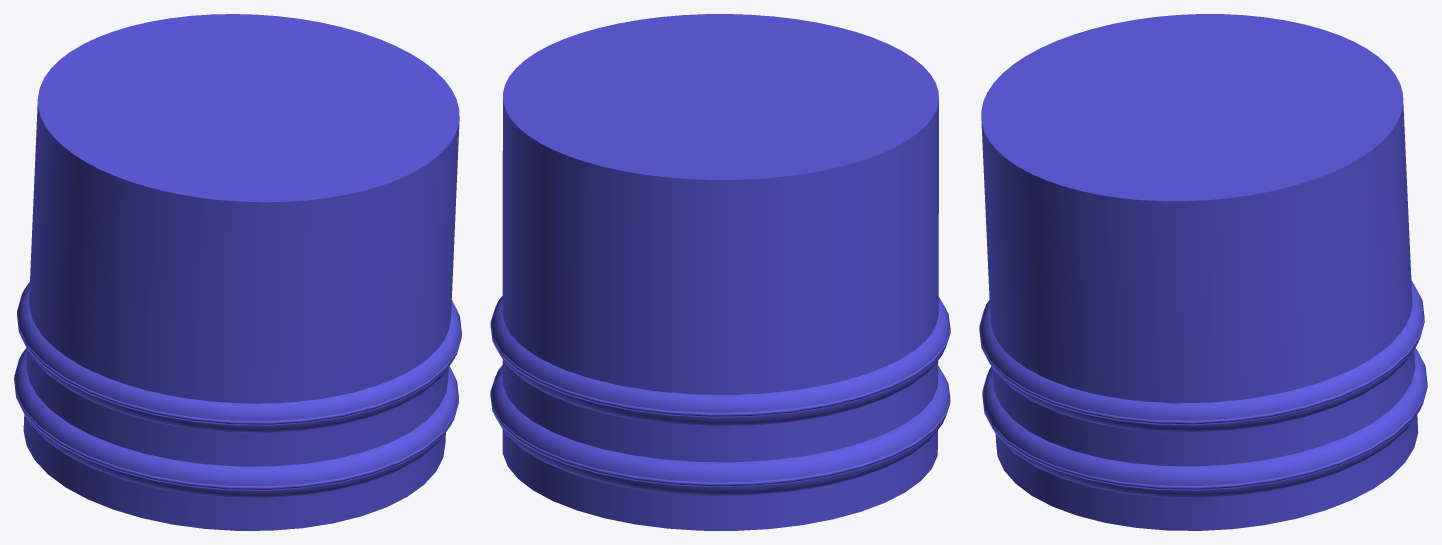
File: bombilla242.obj
3 views of the same model, side by side, from view 1: azimuth 30°, elevation 25°; view 2: azimuth 150°, elevation 25°; view 3: azimuth 270°, elevation 25° (orthographic). The views are drawn at different scales.
Visible parts, largest first — view 1: Cylinder001, Cylinder004, Cylinder003, Cylinder002, Cylinder006; view 2: Cylinder001, Cylinder004, Cylinder003, Cylinder006, Cylinder002; view 3: Cylinder001, Cylinder004, Cylinder003, Cylinder002, Cylinder006.
Boxes of the visible parts, x1=… form: Cylinder001: x1=29, y1=14, x2=459, y2=403; Cylinder004: x1=14, y1=348, x2=458, y2=498; Cylinder003: x1=26, y1=349, x2=448, y2=466; Cylinder002: x1=17, y1=282, x2=461, y2=432; Cylinder006: x1=23, y1=415, x2=445, y2=530; Cylinder001: x1=502, y1=14, x2=938, y2=394; Cylinder004: x1=490, y1=365, x2=950, y2=495; Cylinder003: x1=502, y1=360, x2=938, y2=462; Cylinder006: x1=502, y1=429, x2=937, y2=530; Cylinder002: x1=490, y1=296, x2=950, y2=426; Cylinder001: x1=981, y1=14, x2=1412, y2=403; Cylinder004: x1=982, y1=348, x2=1427, y2=497; Cylinder003: x1=992, y1=349, x2=1415, y2=466; Cylinder002: x1=979, y1=280, x2=1424, y2=432; Cylinder006: x1=995, y1=415, x2=1418, y2=530.
Bounding box in the file's own units: 72.43 × 62.63 × 72.62.
